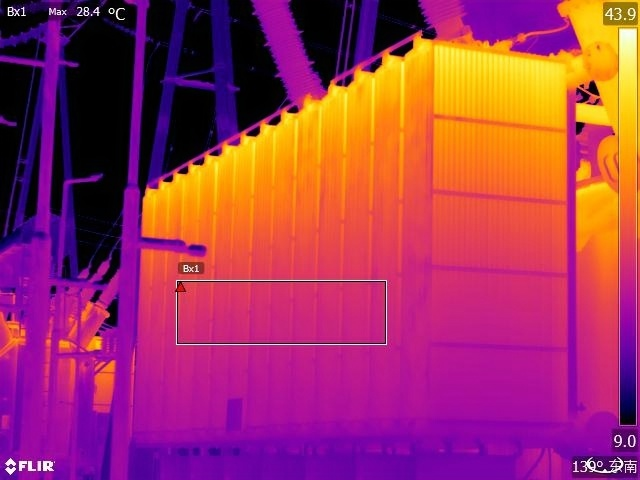transformer: (127, 32, 580, 460)
tube: (248, 1, 330, 98), (66, 259, 133, 346), (58, 259, 114, 339), (415, 1, 480, 46), (49, 267, 92, 323)
